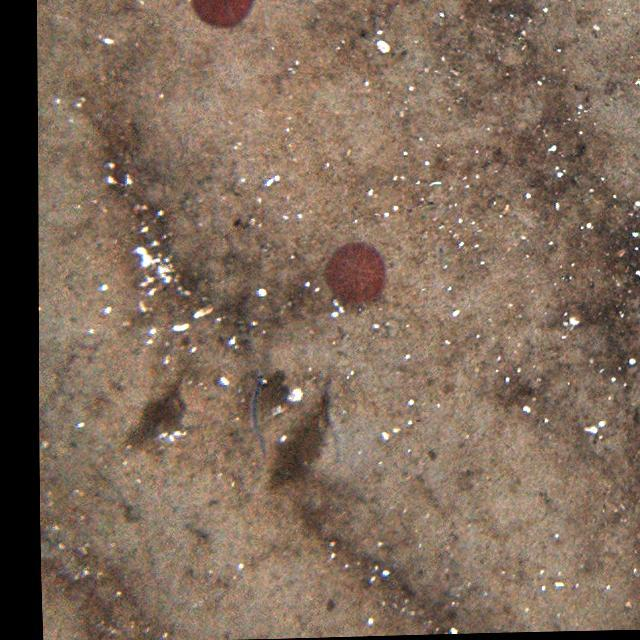roundfish: (249, 377, 277, 461)
